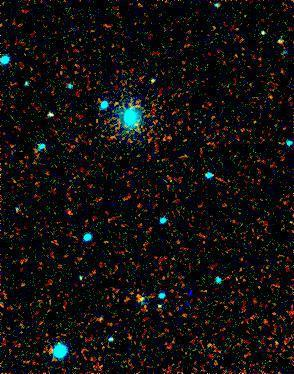star: (99, 85, 129, 115)
